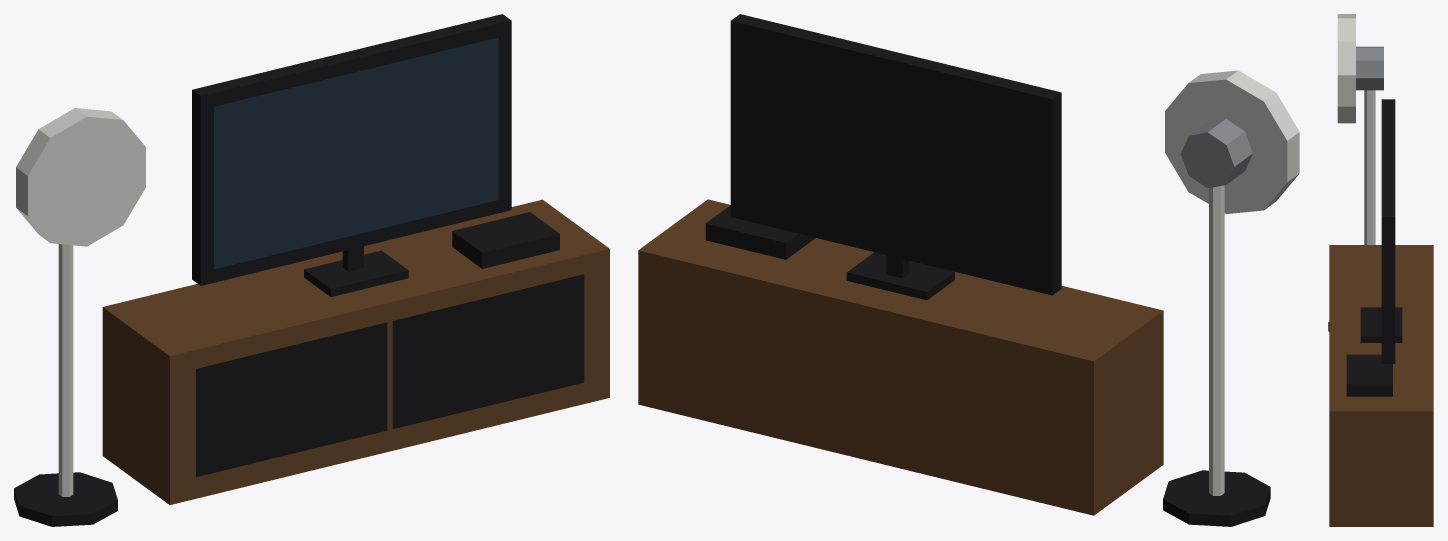
File: prop_tv-stand.bfc2d4f0531e.glb
3 views of the same model, side by side, from view 1: azimuth 30°, elevation 25°; view 2: azimuth 150°, elevation 25°; view 3: azimuth 270°, elevation 25° (orthographic). The views are drawn at different scales.
Visible parts, largest first — view 1: body; view 2: body; view 3: body.
Boxes of the visible parts, x1,y1,x2,y2 form: body: [14, 14, 609, 526]; body: [638, 14, 1299, 526]; body: [1328, 14, 1433, 526].
Bounding box in the file's own units: 2.23 × 1.49 × 0.455.
